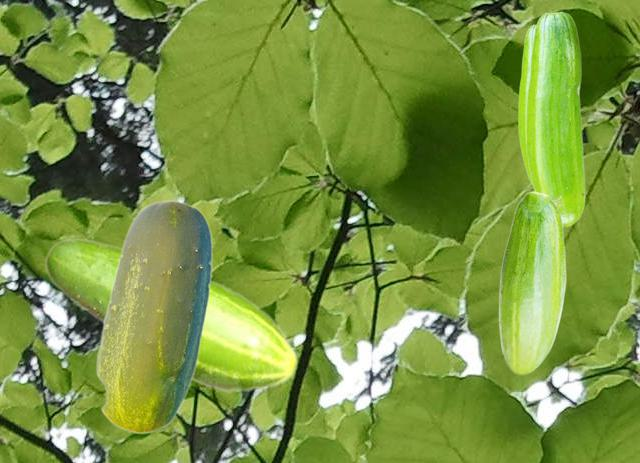cucumber: (44, 237, 298, 393), (95, 199, 211, 433), (526, 11, 584, 226), (498, 191, 565, 374), (518, 23, 535, 185)
